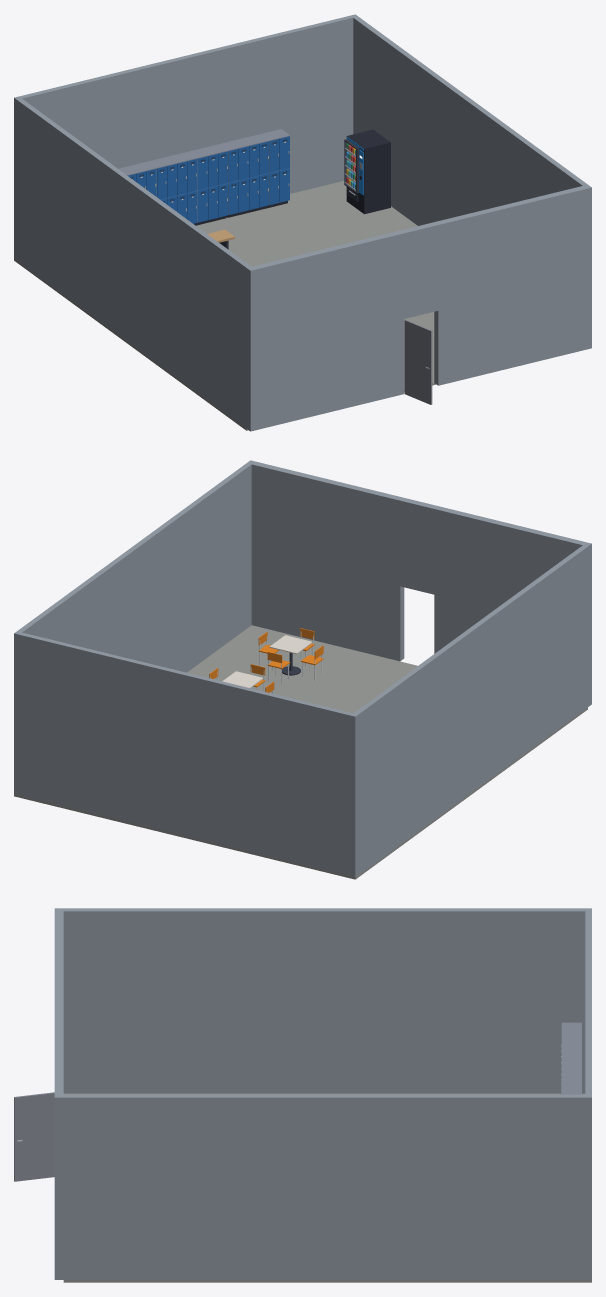
File: ind-006.glb
3 views of the same model, one above another, from view 1: azimuth 30°, elevation 25°; view 2: azimuth 150°, elevation 25°; view 3: azimuth 270°, elevation 25° (orthographic). The views are drawn at different scales.
Visible parts, largest first — view 1: hangar_cladding, plant_floor, locker_blue, plastic_dark, service_door, locker_grey; view 2: hangar_cladding, plant_floor, brand_shoes, laminate; view 3: hangar_cladding, service_door, plant_floor, locker_grey.
Boxes of the visible parts, bbox=[...] form: hangar_cladding: bbox=[14, 14, 591, 431]; plant_floor: bbox=[14, 181, 436, 430]; locker_blue: bbox=[128, 136, 289, 223]; plastic_dark: bbox=[130, 129, 390, 225]; service_door: bbox=[404, 319, 432, 404]; locker_grey: bbox=[118, 129, 290, 222]; hangar_cladding: bbox=[14, 460, 591, 877]; plant_floor: bbox=[14, 625, 587, 879]; brand_shoes: bbox=[209, 628, 323, 692]; laminate: bbox=[222, 635, 312, 688]; hangar_cladding: bbox=[54, 908, 591, 1279]; service_door: bbox=[14, 1092, 54, 1181]; plant_floor: bbox=[63, 1093, 591, 1282]; locker_grey: bbox=[561, 1022, 581, 1094].
Bounding box in the file's own units: 10 × 4.56 × 12.91.
